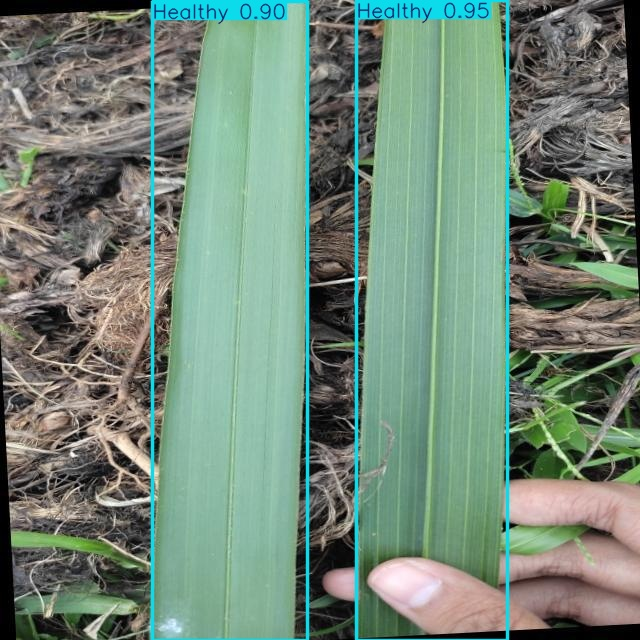Healthy: (152, 1, 308, 640), (356, 0, 508, 640)
